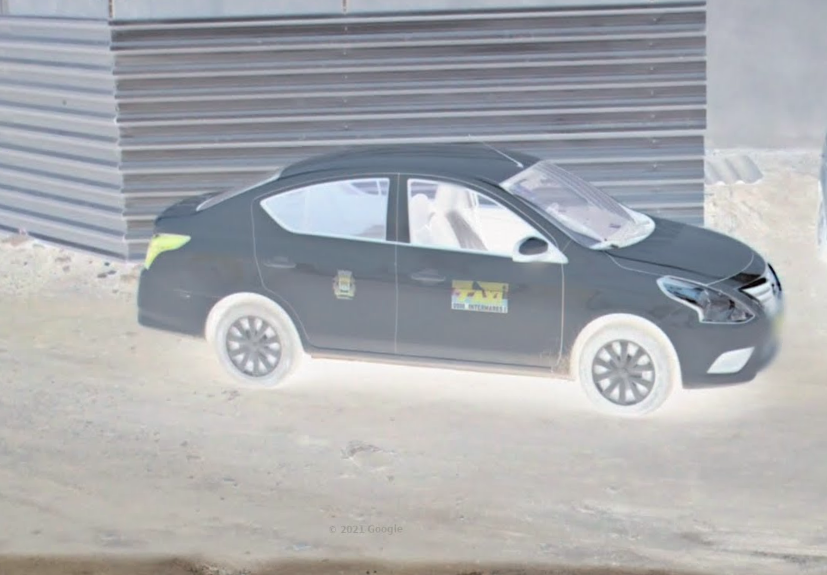car: (131, 134, 791, 419)
